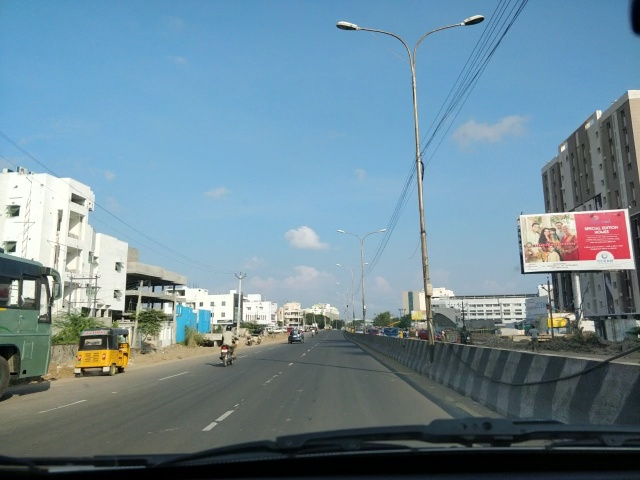auto: (75, 328, 134, 375)
bus: (1, 250, 65, 392)
car: (414, 324, 446, 354), (381, 323, 400, 345), (417, 328, 444, 340), (287, 329, 305, 344), (380, 327, 400, 339), (305, 326, 318, 334), (367, 328, 381, 335)
motorbike: (216, 320, 240, 370), (457, 318, 479, 361), (220, 344, 236, 364), (461, 338, 472, 344)
person: (221, 325, 237, 346), (529, 325, 540, 352), (459, 324, 470, 338)
truck: (250, 326, 281, 334)
